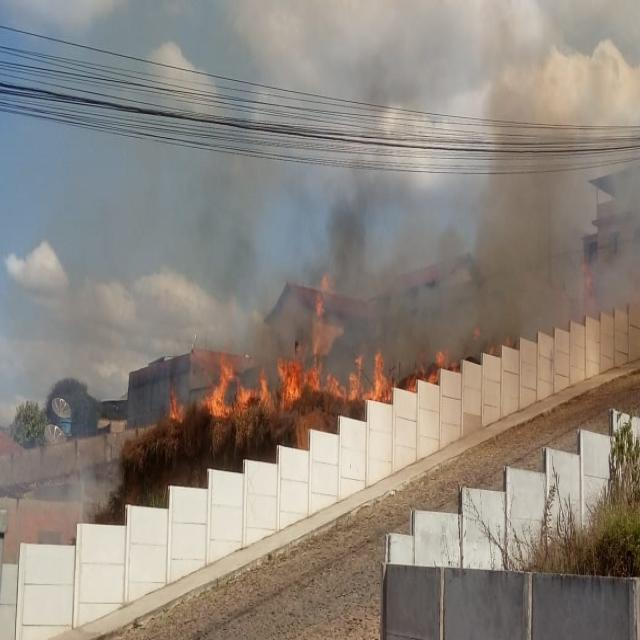Fire: (201, 336, 461, 420), (168, 386, 186, 424)
Smoke: (241, 70, 640, 395)
